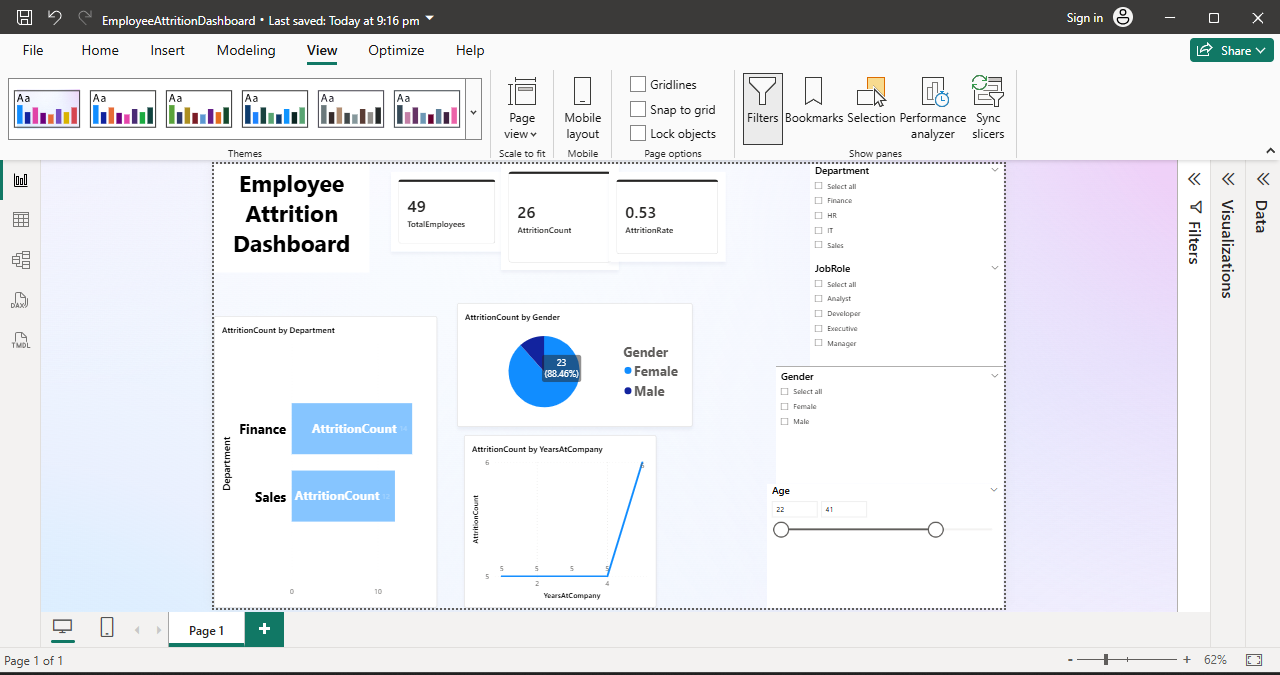

The dashboard page shown, as its layout file describes it:
{"tool":"powerbi","page":{"name":"Page 1","canvas":[1280,720],"ordinal":0},"visuals":[{"type":"cardVisual","fields":{"Data":["HR_Attrittion.TotalEmployees"]},"box":[287.8,13.3,181.8,128.8],"z":0},{"type":"cardVisual","fields":{"Data":["HR_Attrittion.AttritionCount"]},"box":[465.8,0,191.2,172.3],"z":1000},{"type":"cardVisual","fields":{"Data":["HR_Attrittion.AttritionRate"]},"box":[640,13.3,189.3,145.8],"z":2000},{"type":"clusteredBarChart","fields":{"Y":["HR_Attrittion.AttritionCount"],"Category":["HR_Attrittion.Department"]},"box":[0,246.2,361.7,473.4],"z":3000},{"type":"pieChart","fields":{"Category":["HR_Attrittion.Gender"],"Y":["HR_Attrittion.AttritionCount"]},"box":[393.8,225.3,382.5,200.7],"z":4000},{"type":"lineChart","fields":{"Category":["HR_Attrittion.YearsAtCompany"],"Y":["HR_Attrittion.AttritionCount"]},"box":[405.2,439.3,312.4,280.2],"z":5000},{"type":"slicer","fields":{"Values":["HR_Attrittion.Department"]},"box":[965.7,0,314.3,246.2],"z":6000},{"type":"slicer","fields":{"Values":["HR_Attrittion.JobRole"]},"box":[965.7,159.1,314.3,280.2],"z":7000},{"type":"slicer","fields":{"Values":["HR_Attrittion.Gender"]},"box":[910.8,327.6,369.2,191.2],"z":8000},{"type":"slicer","fields":{"Values":["HR_Attrittion.Age"]},"box":[897.5,518.8,382.5,200.7],"z":9000},{"type":"textbox","box":[0,0,251.8,176.1],"z":9001}]}

Visuals, with their boxes on the page's 1280x720 design canvas (x1, y1, x2, y2). These are canvas units, not pixel positions in the 1280x675 screenshot, which may show the page scaled, cropped or inside an application window:
cardVisual - HR_Attrittion.TotalEmployees: 288/13/470/142
cardVisual - HR_Attrittion.AttritionCount: 466/0/657/172
cardVisual - HR_Attrittion.AttritionRate: 640/13/829/159
clusteredBarChart - HR_Attrittion.AttritionCount x HR_Attrittion.Department: 0/246/362/720
pieChart - HR_Attrittion.Gender x HR_Attrittion.AttritionCount: 394/225/776/426
lineChart - HR_Attrittion.YearsAtCompany x HR_Attrittion.AttritionCount: 405/439/718/720
slicer - HR_Attrittion.Department: 966/0/1280/246
slicer - HR_Attrittion.JobRole: 966/159/1280/439
slicer - HR_Attrittion.Gender: 911/328/1280/519
slicer - HR_Attrittion.Age: 898/519/1280/720
textbox: 0/0/252/176
